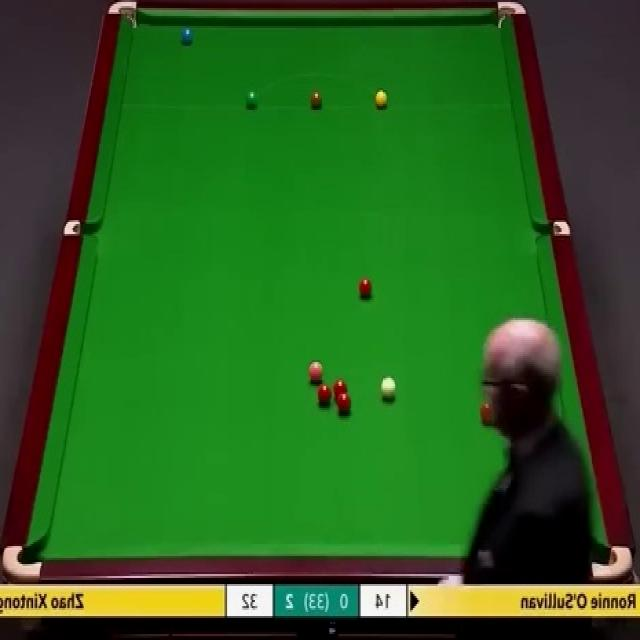blue-ball: (179, 22, 195, 47)
brown-ball: (309, 91, 323, 111)
green-ball: (244, 90, 258, 112)
pink-ball: (308, 361, 326, 385)
red-ball: (480, 401, 496, 428), (357, 276, 373, 300), (316, 383, 333, 405), (336, 393, 352, 416), (332, 379, 349, 400)
white-ball: (379, 376, 398, 407)
yellow-ball: (374, 90, 388, 110)
